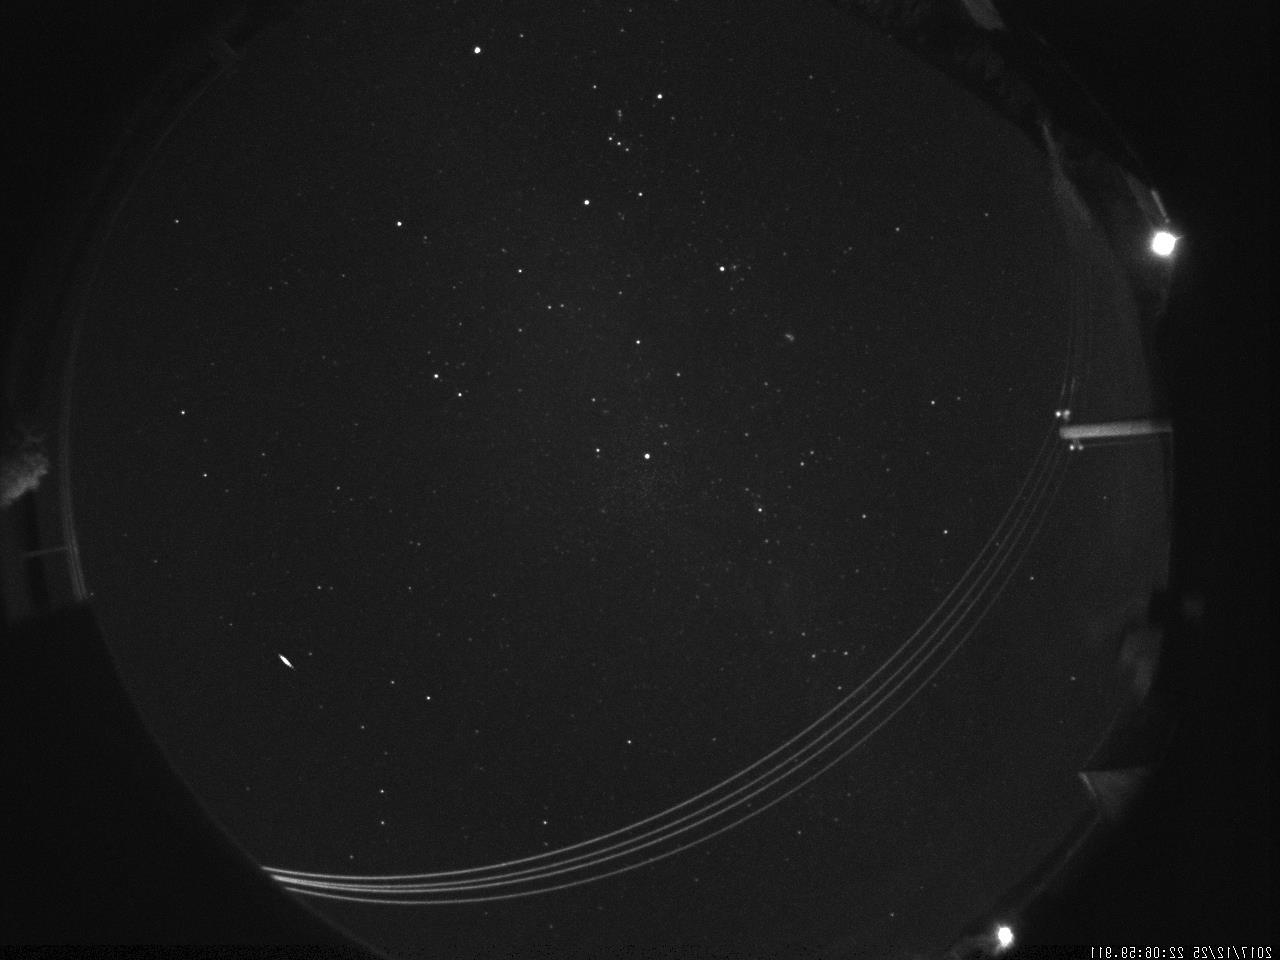meteor: (260, 639, 304, 683)
